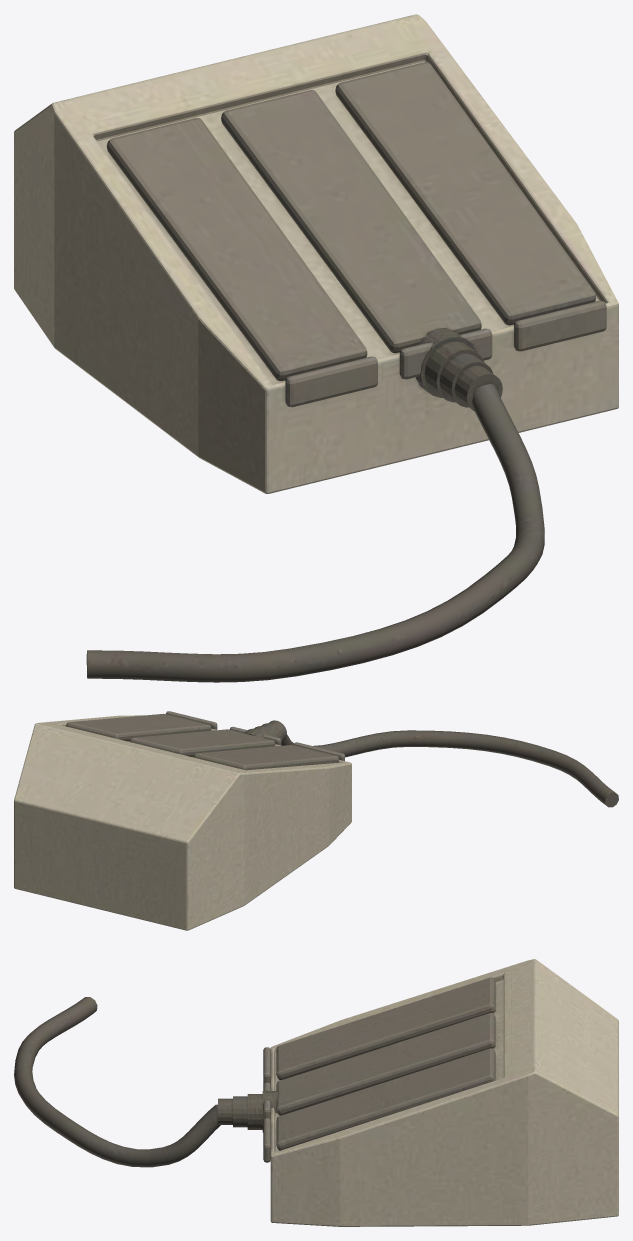
The model's file is mouse-g.glb.
The picture shows the model from 3 angles, top to bottom: view 1: azimuth 30°, elevation 25°; view 2: azimuth 150°, elevation 25°; view 3: azimuth 270°, elevation 25°; orthographic projection. The views are drawn at different scales.
Parts seen in each view (by area): view 1: so-baked; view 2: so-baked; view 3: so-baked.
Part boxes in pixels (x1,y1,x2,y2): so-baked: (14, 14, 618, 682); so-baked: (14, 711, 618, 930); so-baked: (14, 959, 618, 1226).
Bounding box in the file's own units: 0.1463 × 0.0501 × 0.1737.
Materials: 1 (1 with a texture image).
